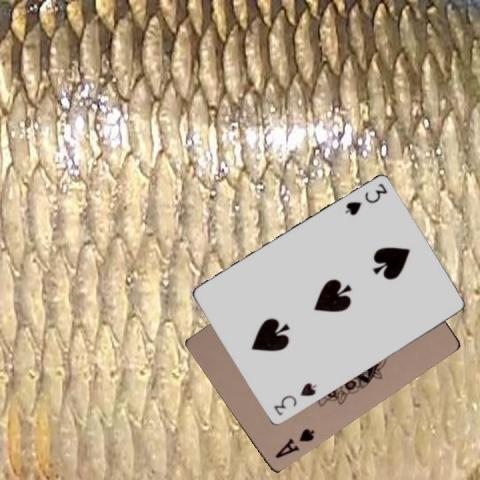3s: (271, 380, 318, 418), (342, 181, 389, 217)
As: (272, 425, 316, 459)
